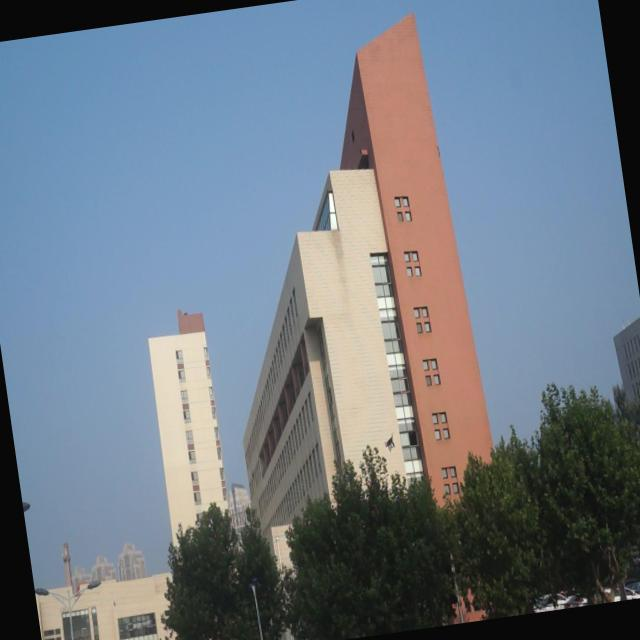drone: (380, 429, 400, 454)
